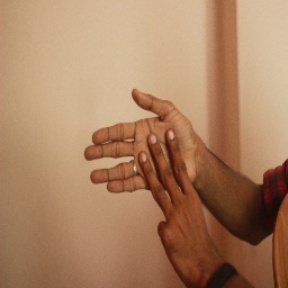M: (81, 85, 211, 235)
